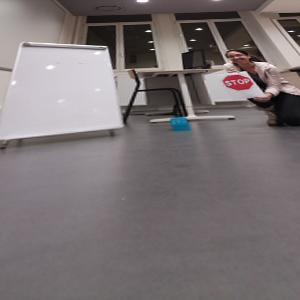big: (2, 41, 125, 141)
small: (170, 117, 191, 131)
